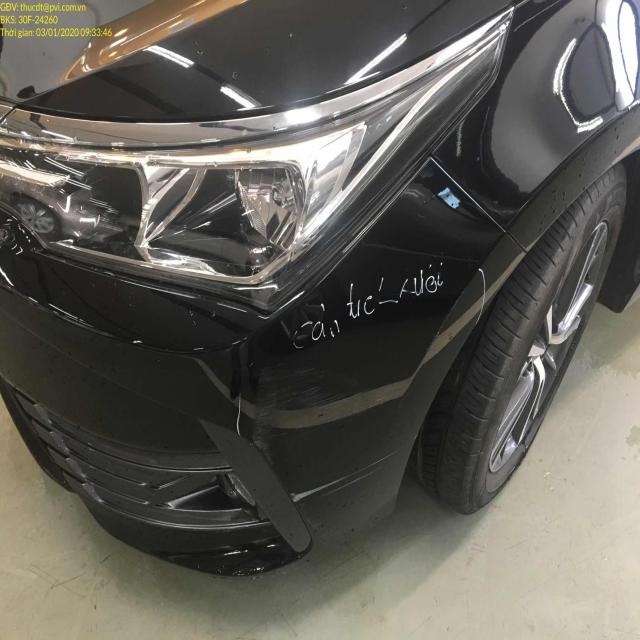Phare abime: (231, 153, 299, 249)
Rayure: (242, 359, 322, 468), (289, 452, 400, 502)
